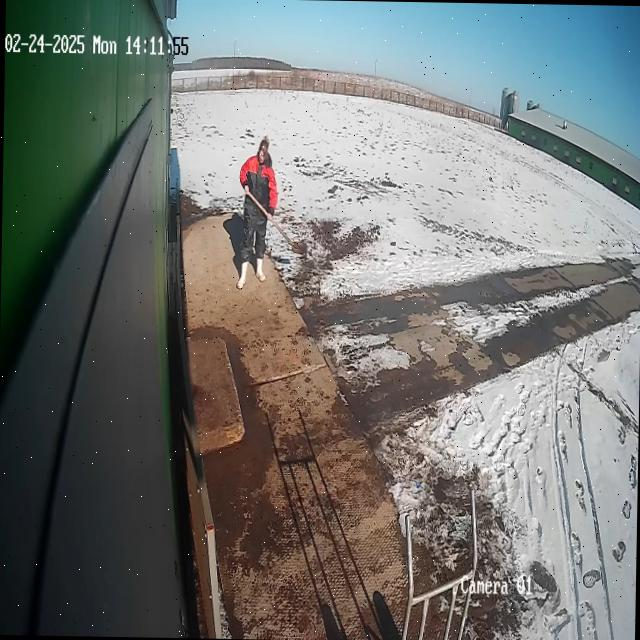Red uniform: (236, 154, 278, 266)
